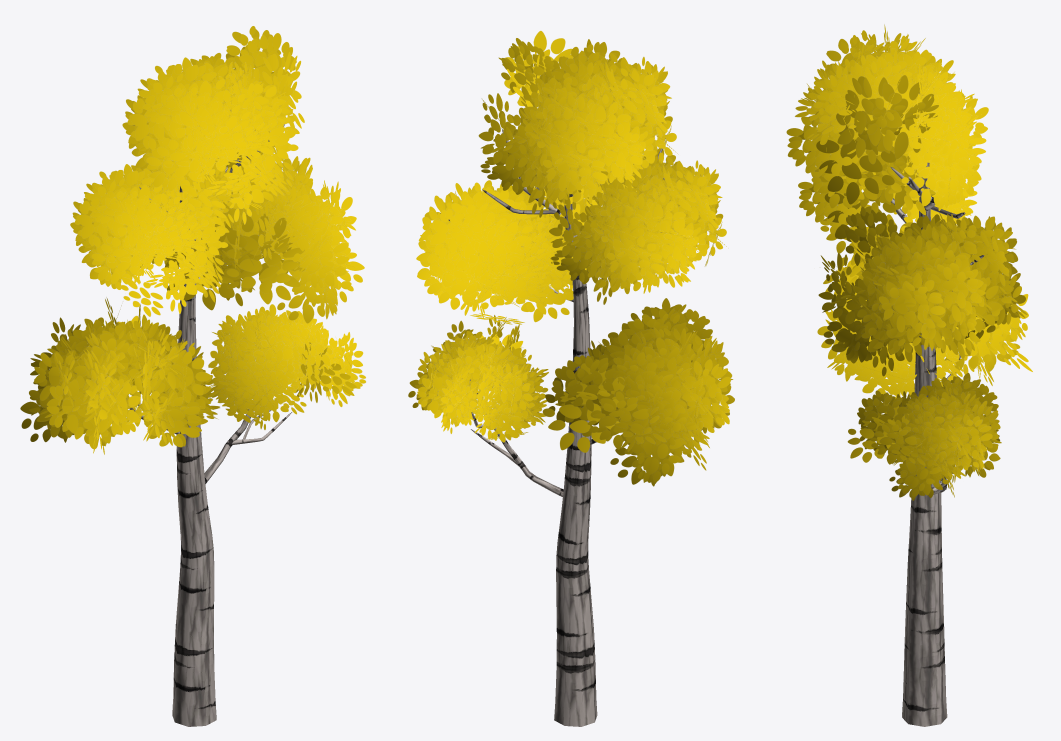
Rendered from birch_1.glb.
3 renders of one model, left to right at view 1: azimuth 30°, elevation 25°; view 2: azimuth 150°, elevation 25°; view 3: azimuth 270°, elevation 25°, orthographic. The views are drawn at different scales.
Parts seen in each view (by area): view 1: BirchTree_1; view 2: BirchTree_1; view 3: BirchTree_1.
Part boxes in pixels (<box>): BirchTree_1: <box>20,26,365,726</box>; BirchTree_1: <box>408,30,734,726</box>; BirchTree_1: <box>786,24,1032,726</box>.
Bounding box in the file's own units: 2.71 × 5.45 × 1.94.
Materials: 2 (2 with a texture image).
